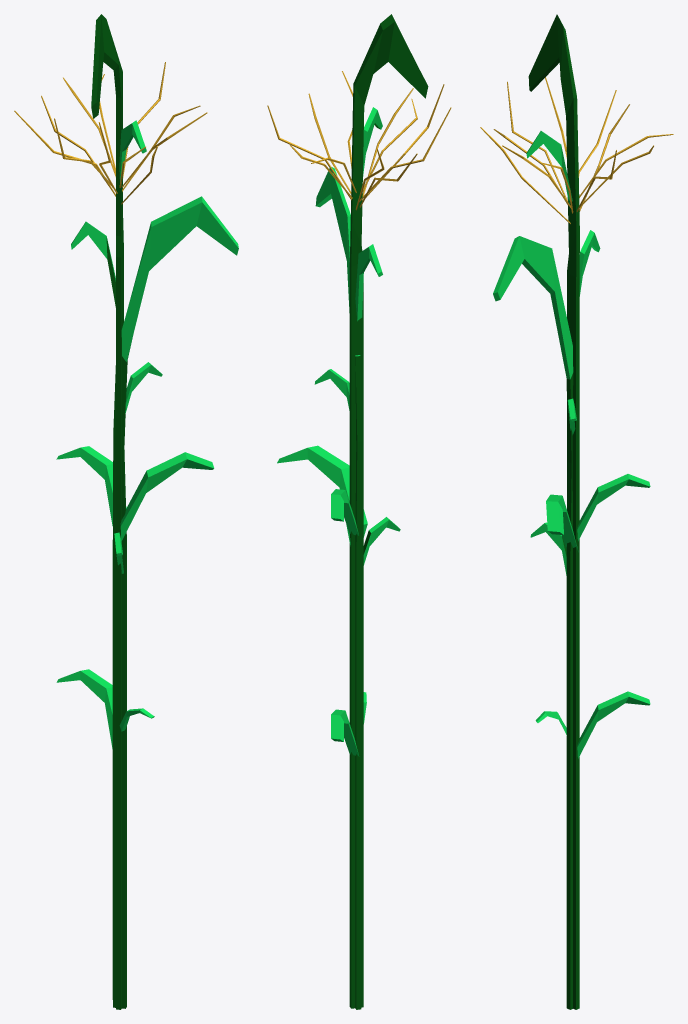
File: stage_4.glb
3 renders of one model, left to right at view 1: azimuth 30°, elevation 25°; view 2: azimuth 150°, elevation 25°; view 3: azimuth 270°, elevation 25°, orthographic. The views are drawn at different scales.
Visible parts, largest first — view 1: 4; view 2: 4; view 3: 4.
Boxes of the visible parts, <box> form: 4: <box>14,14,238,1009</box>; 4: <box>267,14,451,1009</box>; 4: <box>480,14,673,1009</box>.
Size of the model in its own units: 0.2402 by 1.36 by 0.2438.
